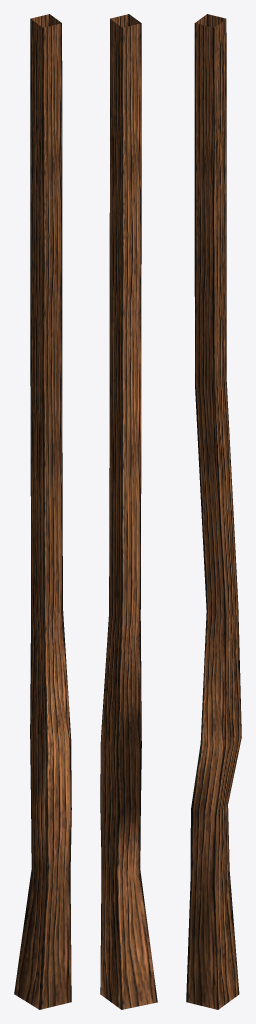
The model's file is LAKETOWN_PUB_PS_PUB_CEILINGPOLE33736.fbx.
3 renders of one model, left to right at view 1: azimuth 30°, elevation 25°; view 2: azimuth 210°, elevation 25°; view 3: azimuth 330°, elevation 25°, orthographic.
Visible parts, largest first — view 1: LAKETOWN_PUB_PS_PUB_CEILINGPOLE33736; view 2: LAKETOWN_PUB_PS_PUB_CEILINGPOLE33736; view 3: LAKETOWN_PUB_PS_PUB_CEILINGPOLE33736.
Boxes of the visible parts, x1=… form: LAKETOWN_PUB_PS_PUB_CEILINGPOLE33736: x1=14, y1=14, x2=71, y2=1009; LAKETOWN_PUB_PS_PUB_CEILINGPOLE33736: x1=100, y1=14, x2=157, y2=1009; LAKETOWN_PUB_PS_PUB_CEILINGPOLE33736: x1=186, y1=14, x2=241, y2=1009.
Bounding box in the file's own units: 2875 × 70093 × 3122.
Materials: 1 (1 with a texture image).
